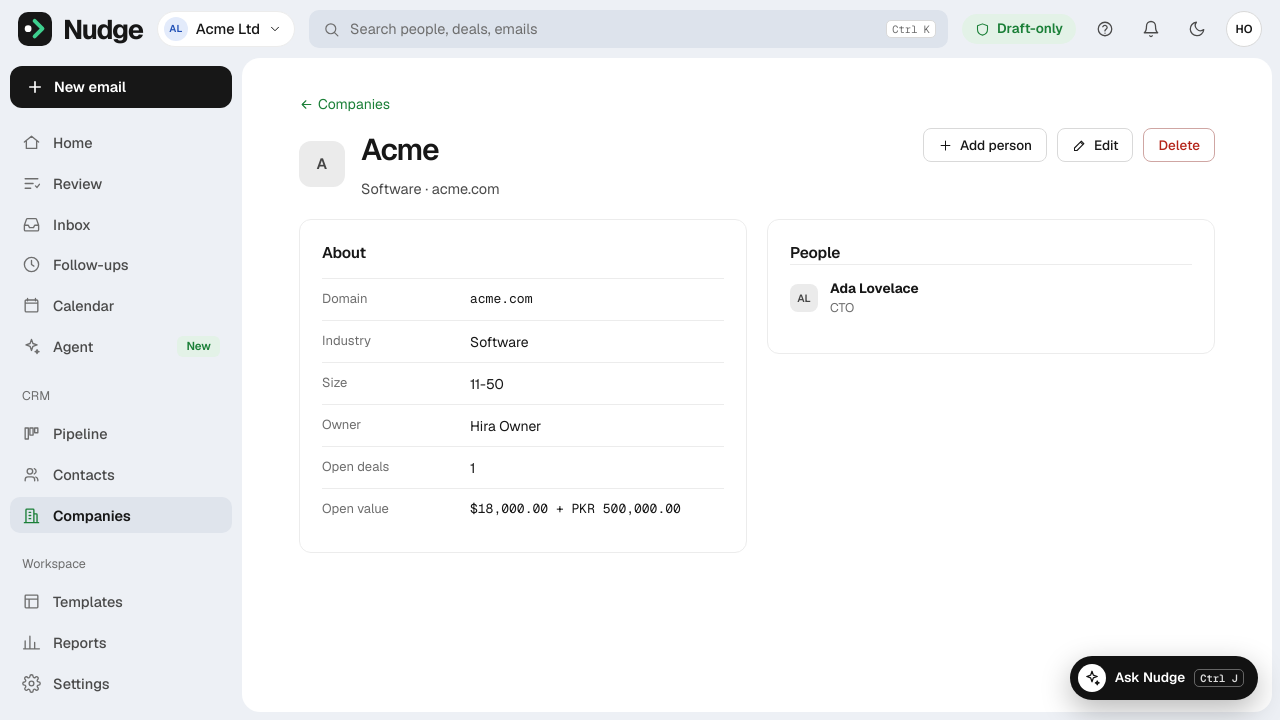
it: Company detail, edit and delete (real mode) › delete asks first, calls DELETE, then goes back to a list read from the server
Step 1. Click the button "Delete" → (1179, 145), box [1144, 128, 1215, 162]
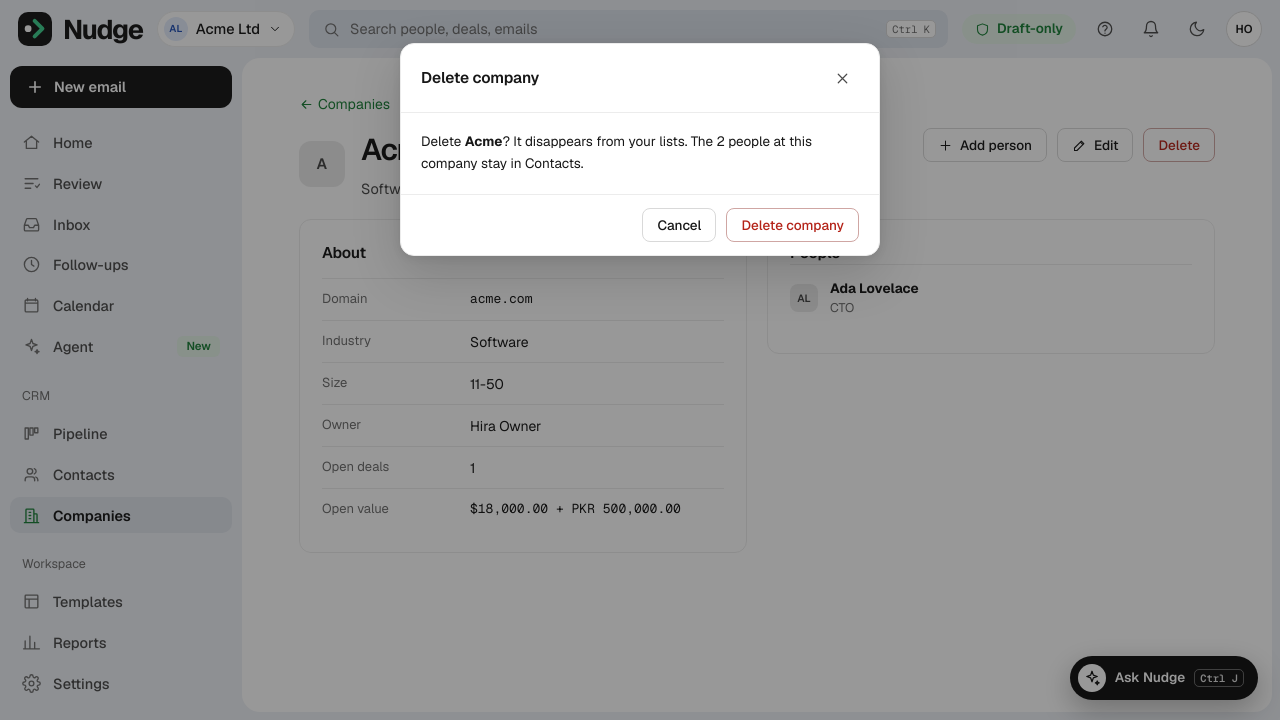
Result: the dialog shows "Delete Acme?" at [400, 43, 880, 256]
Step 2. Click the button "Delete company" → (793, 225), box [726, 208, 859, 242]
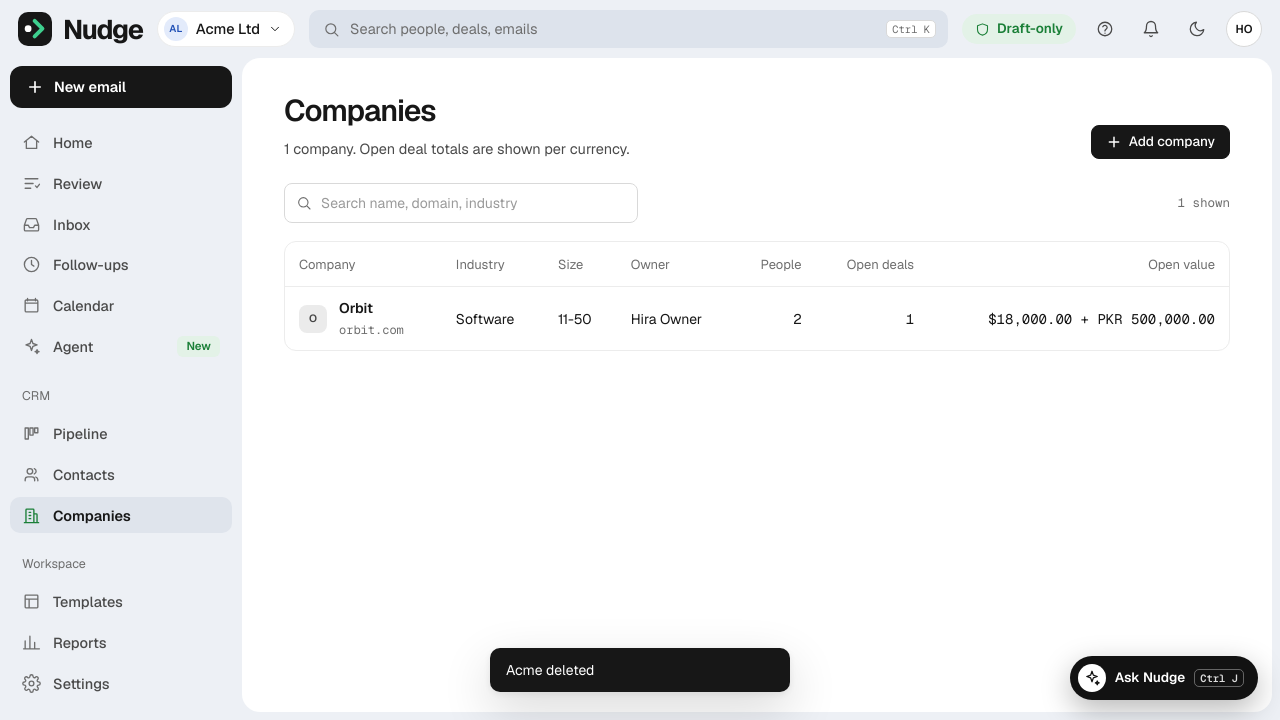
Expected: the text "Acme" is not shown
Result: the table shows "Orbit" at [339, 300, 373, 318]
